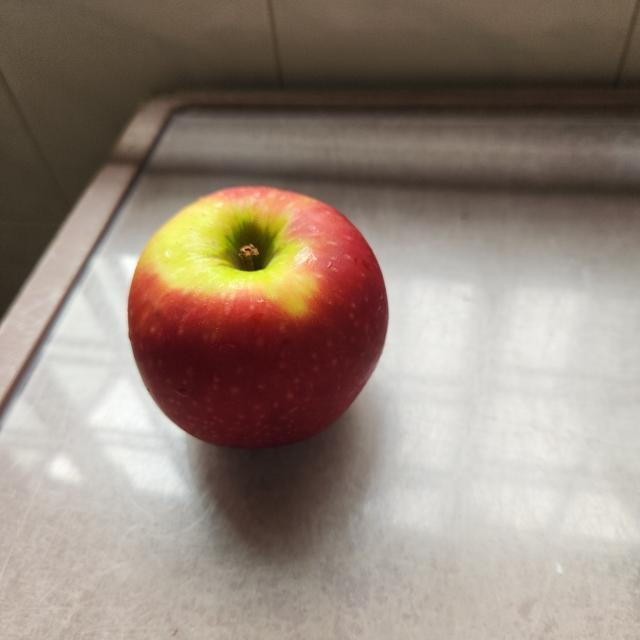apple: (120, 178, 393, 458)
